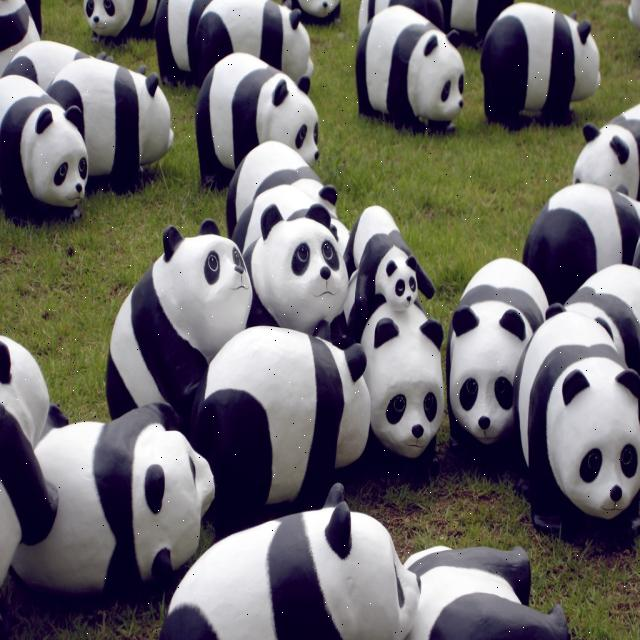panda: (3, 398, 217, 606), (160, 480, 422, 639), (195, 324, 372, 548), (105, 215, 252, 425), (513, 310, 640, 550), (444, 257, 552, 469), (44, 55, 174, 194), (193, 51, 318, 192), (400, 541, 570, 639), (357, 297, 444, 481), (477, 2, 601, 131), (523, 182, 640, 313), (249, 207, 349, 359), (0, 334, 59, 590), (357, 1, 463, 130), (0, 71, 88, 224), (222, 136, 336, 241), (338, 206, 431, 330), (190, 0, 312, 88), (544, 264, 640, 375), (233, 188, 347, 256), (573, 97, 640, 207), (0, 39, 114, 95), (153, 0, 211, 85), (81, 0, 160, 44), (0, 0, 39, 78), (288, 0, 340, 26)
